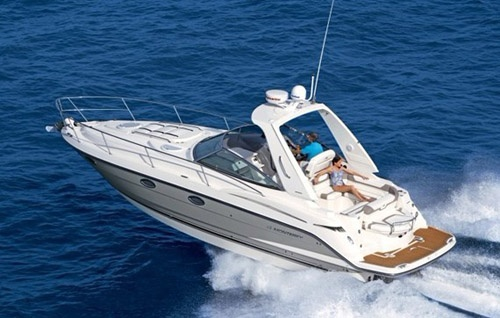yacht: (48, 73, 458, 279)
